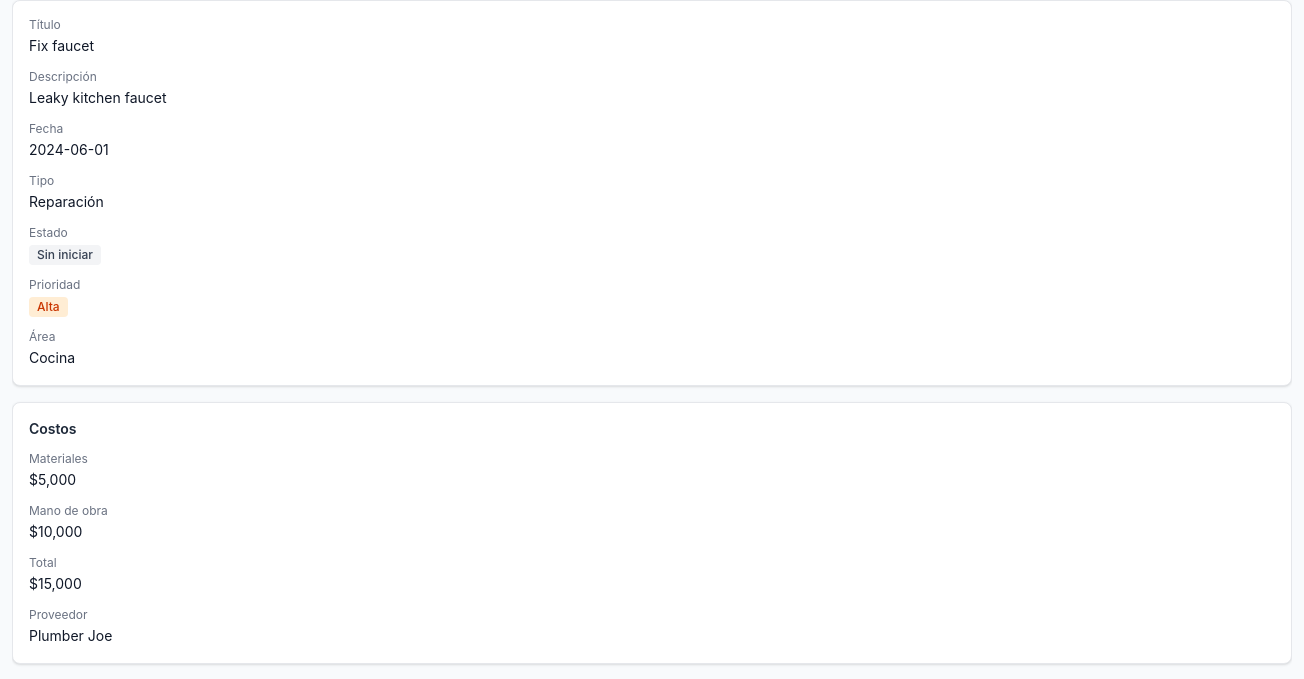
it: DetalleEventoPage › should cancel edit when cancel button is clicked
Expected: the text "Fix faucet" is shown, [29,37,94,54]
Click to edit title
Click the button "Título Fix faucet". click: (45, 24)
box: [29,17,1275,57]
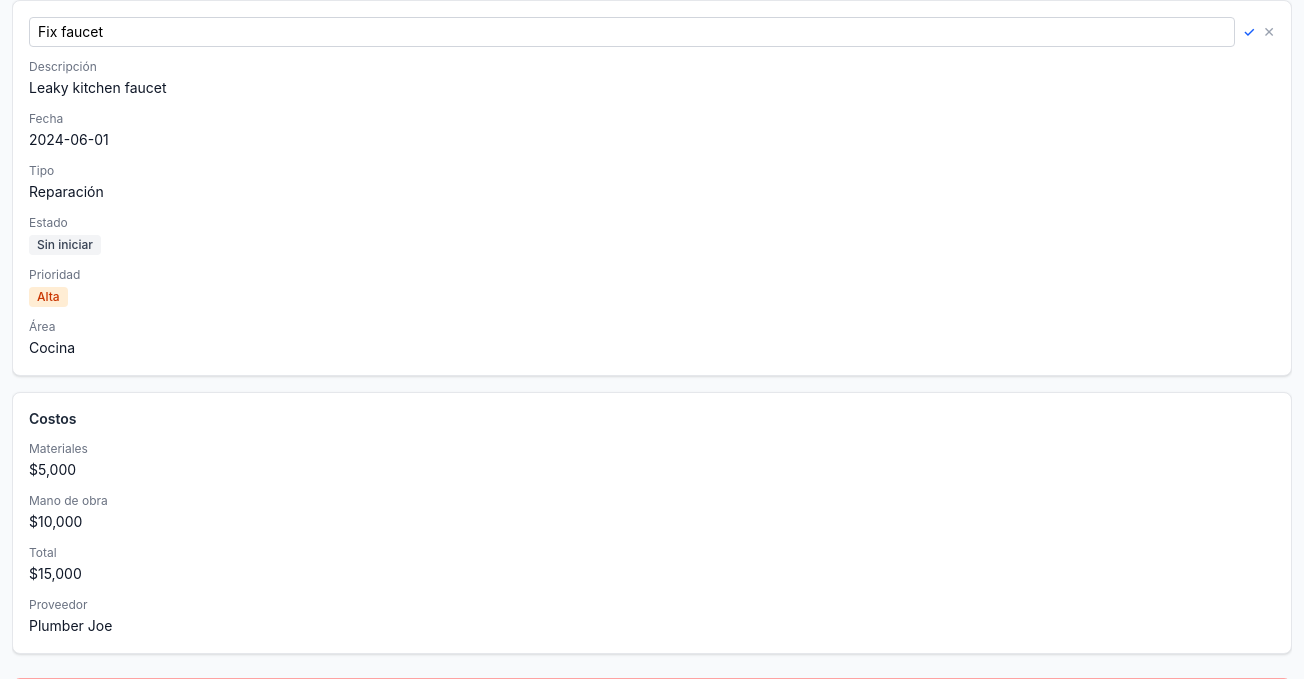
Expected: the field showing "Fix faucet" is shown, [29,17,1235,47]
Click cancel (✕ button)
Click the button "✕". click: (1269, 32)
box: [1263,22,1275,42]
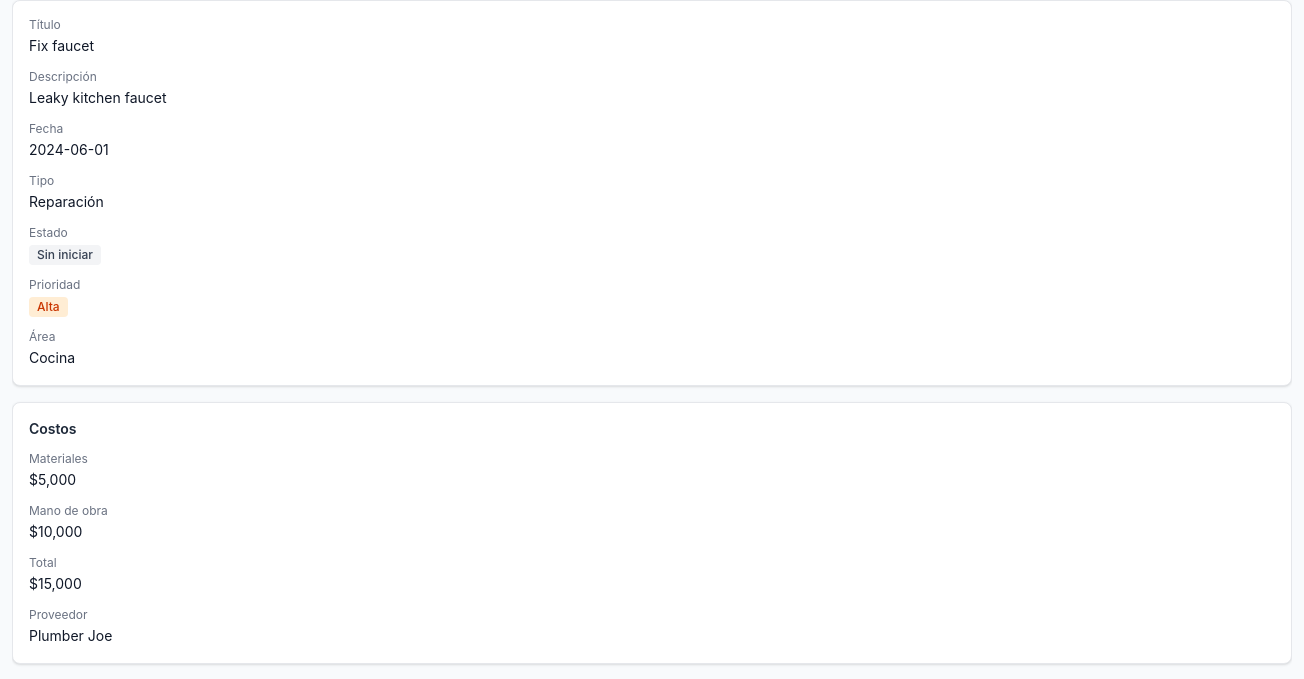
Expected: the text "Fix faucet" is shown, [29,37,94,54]
